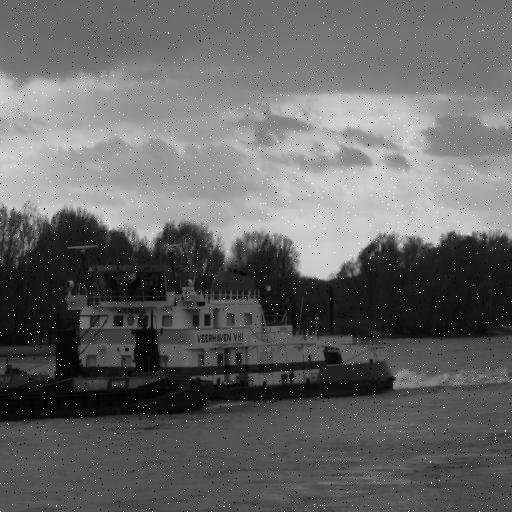tugboat: (48, 242, 405, 411)
